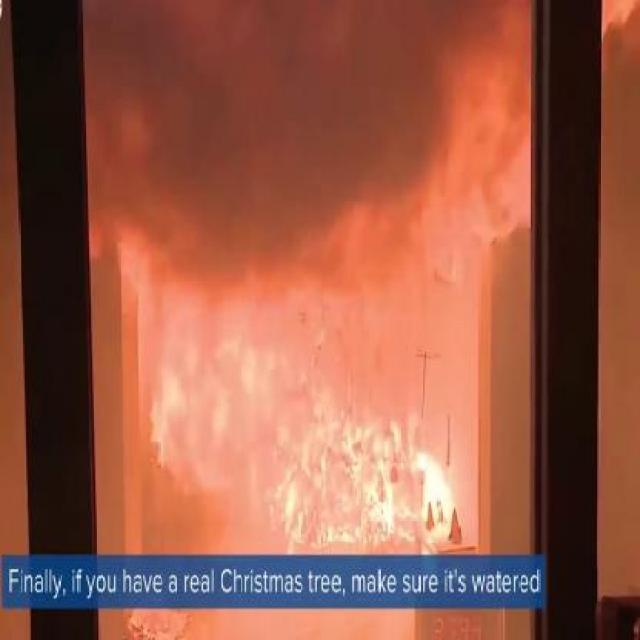fire: (216, 344, 457, 552)
smoke: (113, 0, 398, 168)
